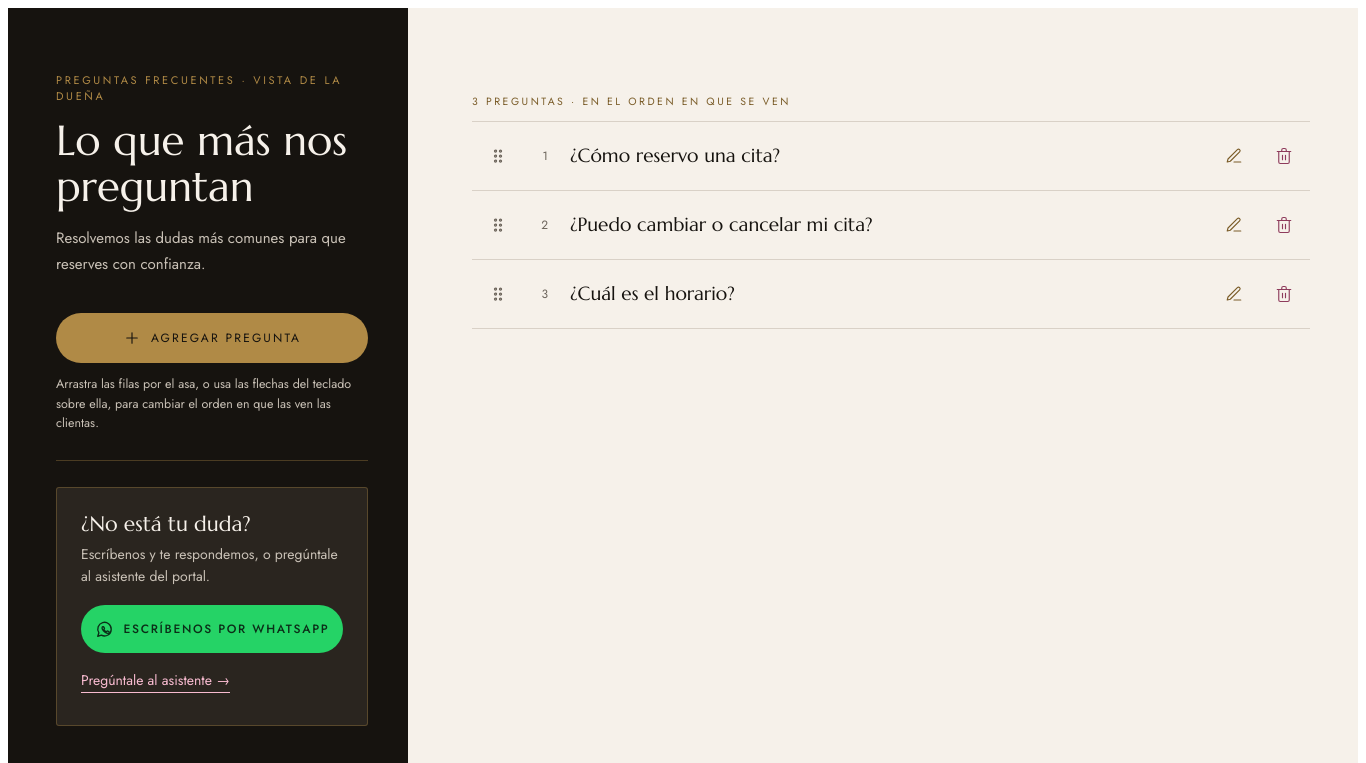
Test: FaqPage · la dueña › «Agregar pregunta» crea sin mandar el orden y lo dice en línea
Click the button with test id "agregar-pregunta" at (212, 338), box 56,313 -> 368,363
(page scrolled)
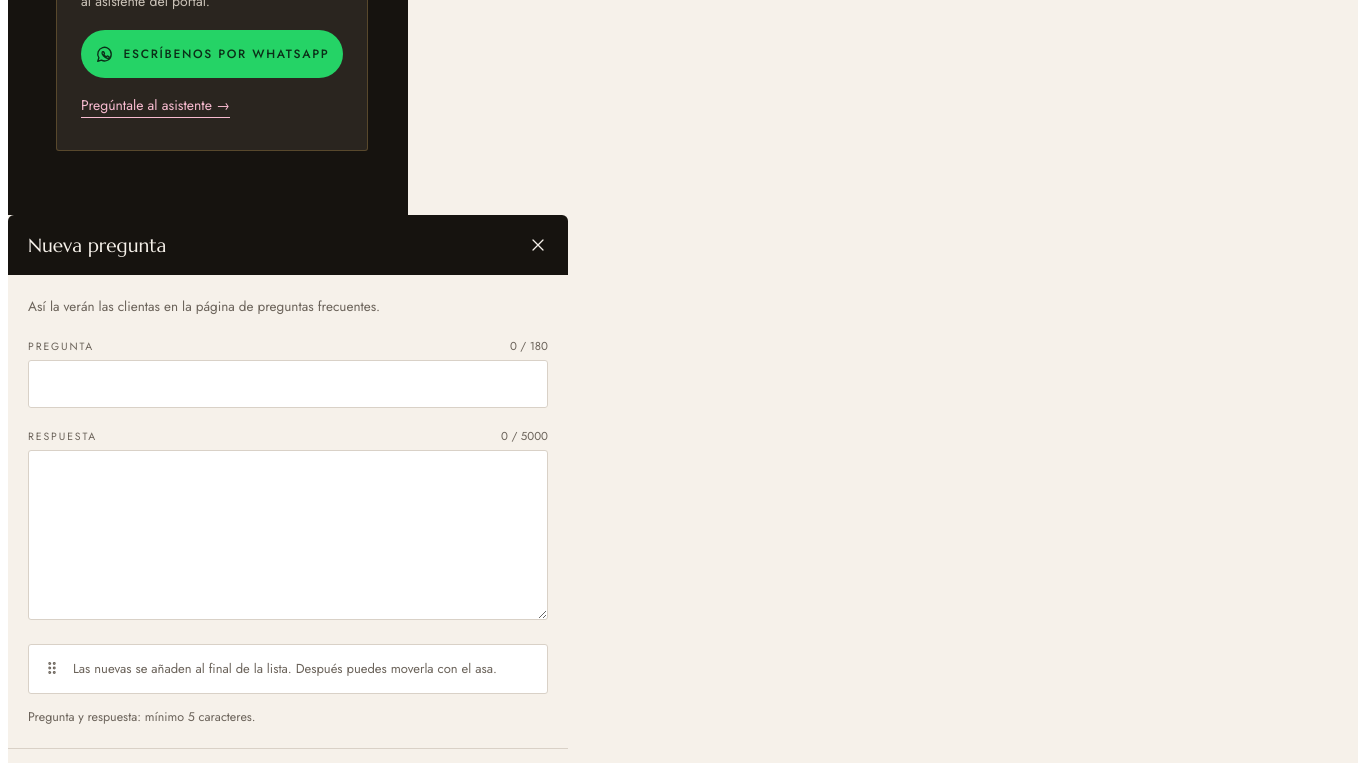
Expected: the element with test id "dialogo-pregunta" shows "Nueva pregunta", 28,234 -> 166,258
Type "  ¿Hay parqueadero?  " into the field with test id "campo-pregunta" at (288, 384), box 28,360 -> 548,408
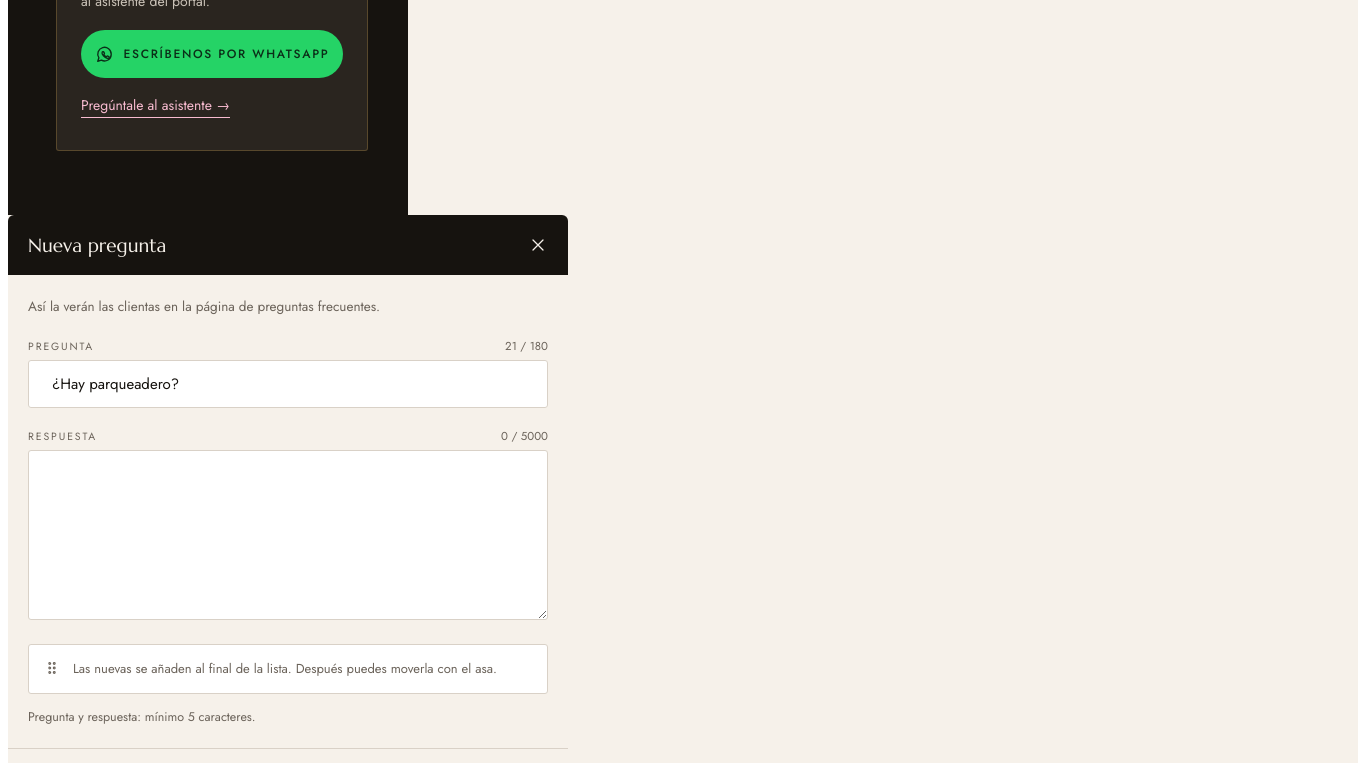
Type "Sí, en la calle." into the text box with test id "campo-respuesta" at (288, 535), box 28,450 -> 548,620
(page scrolled)
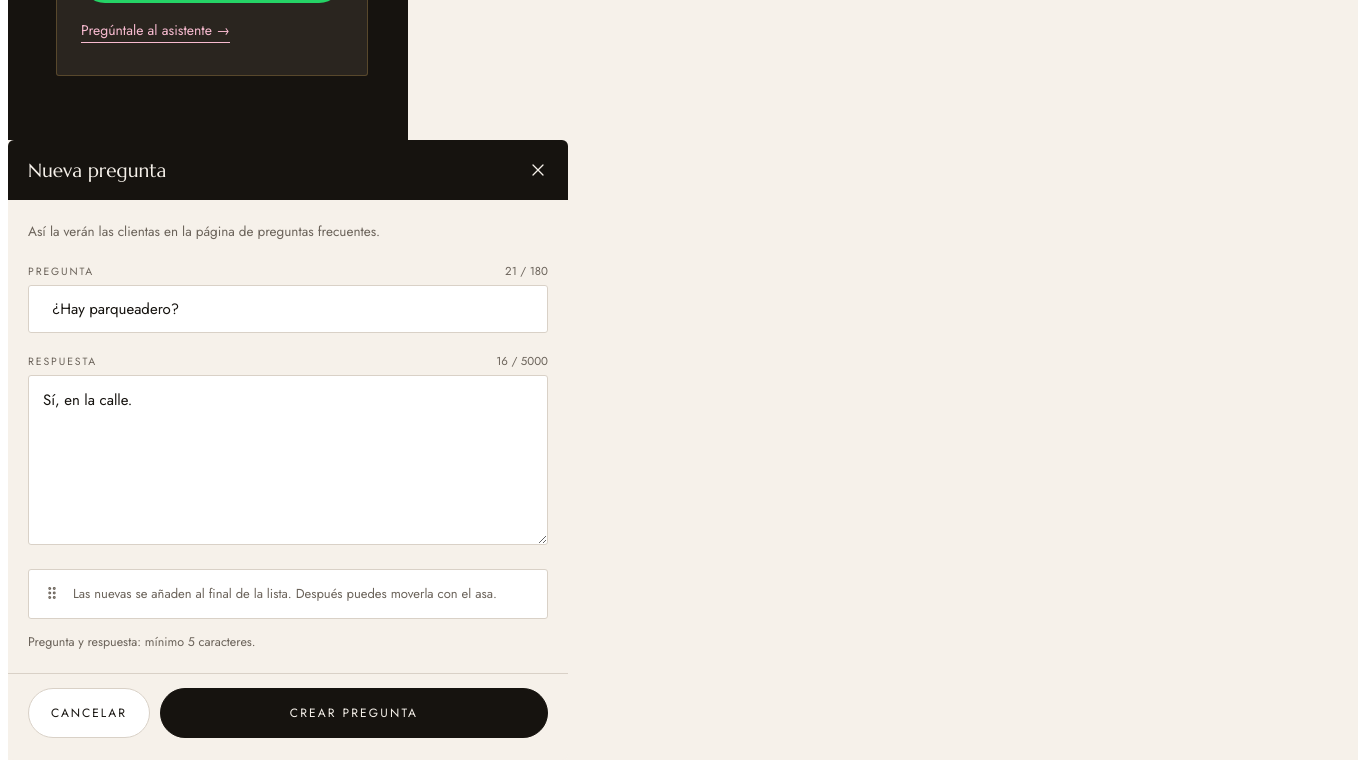
Submit the form with test id "formulario-pregunta", box 8,200 -> 568,760
(page scrolled)
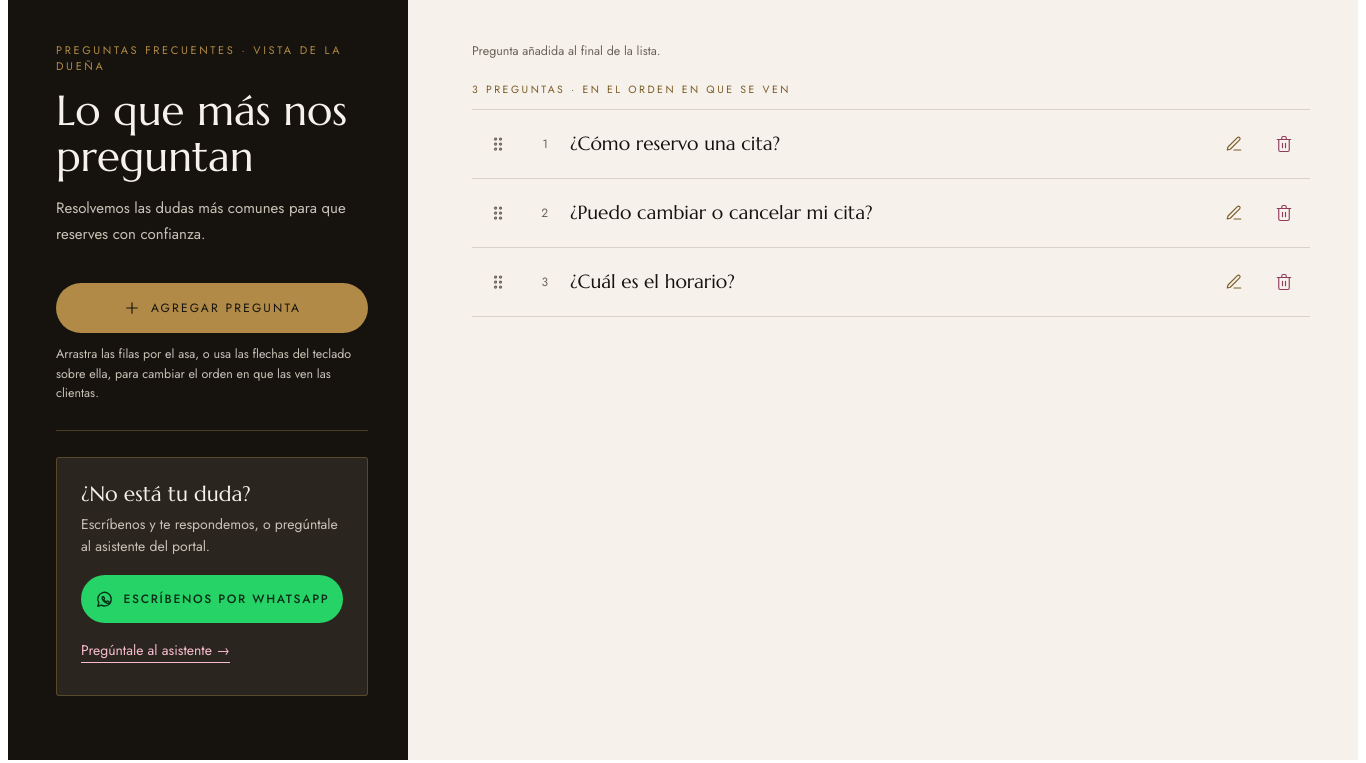
Expected: the message with test id "estado-preguntas" reads "Pregunta añadida al final de la lista.", 472,42 -> 660,60
